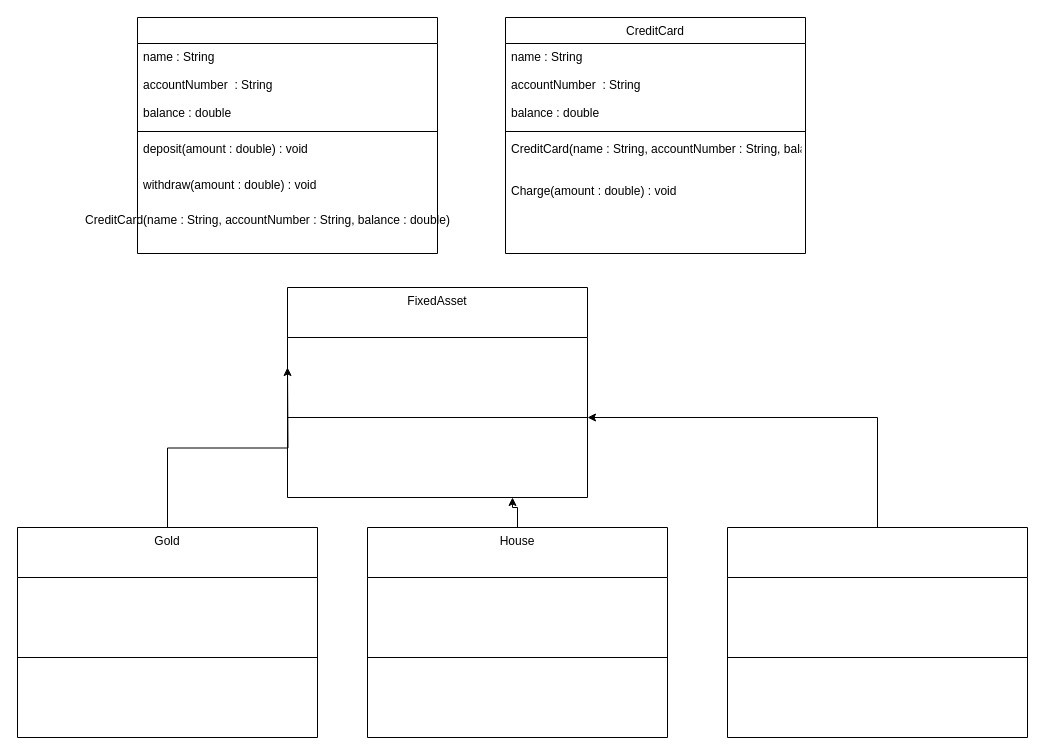
Image size: 1045x755. Some labels were removed from this diagram. Each missing label, with the box of its shape:
DebitCard: (136, 16, 438, 254)
Jewerly: (726, 526, 1028, 738)
